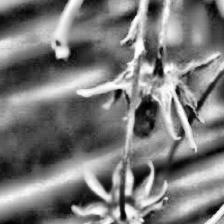Gray Mold: (77, 53, 219, 153)
